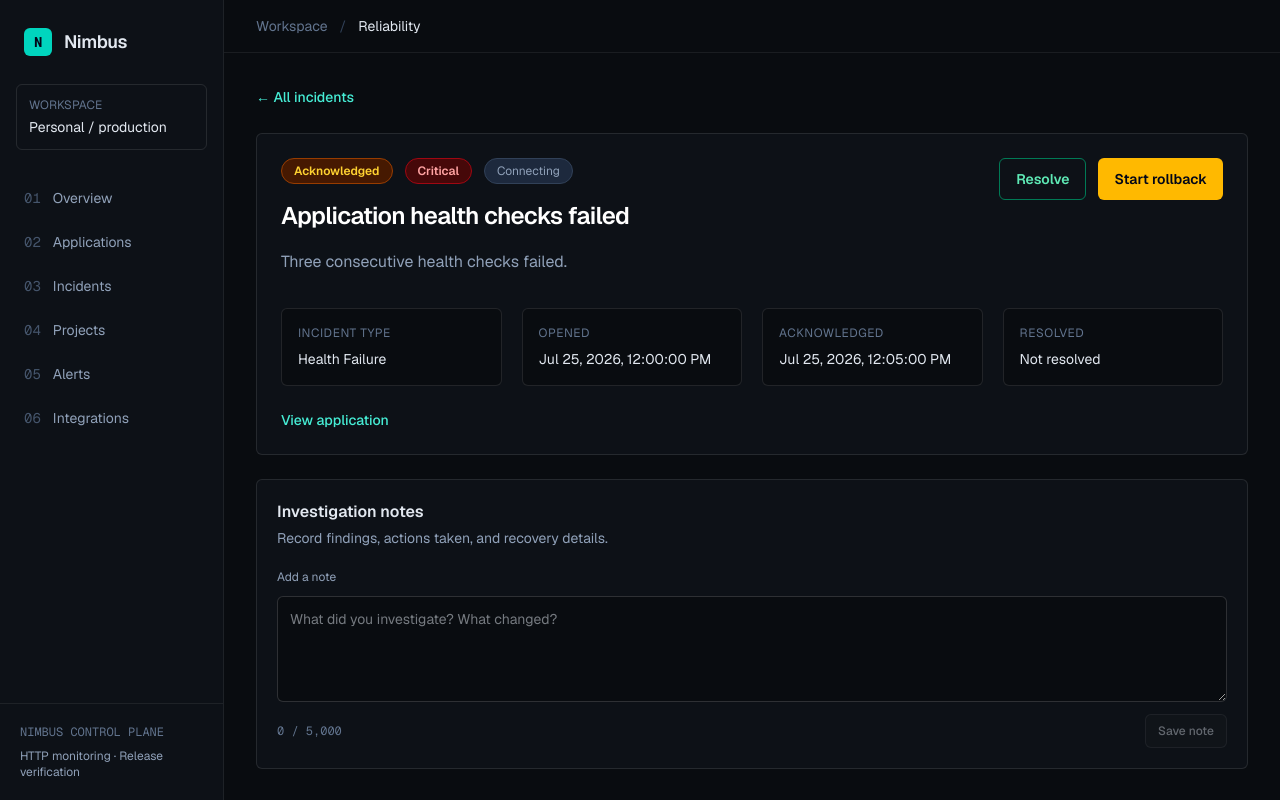
Test case: IncidentDetailPage › resolves an incident
Click the button "Resolve".
click(1043, 179)  # box [999,158,1086,200]
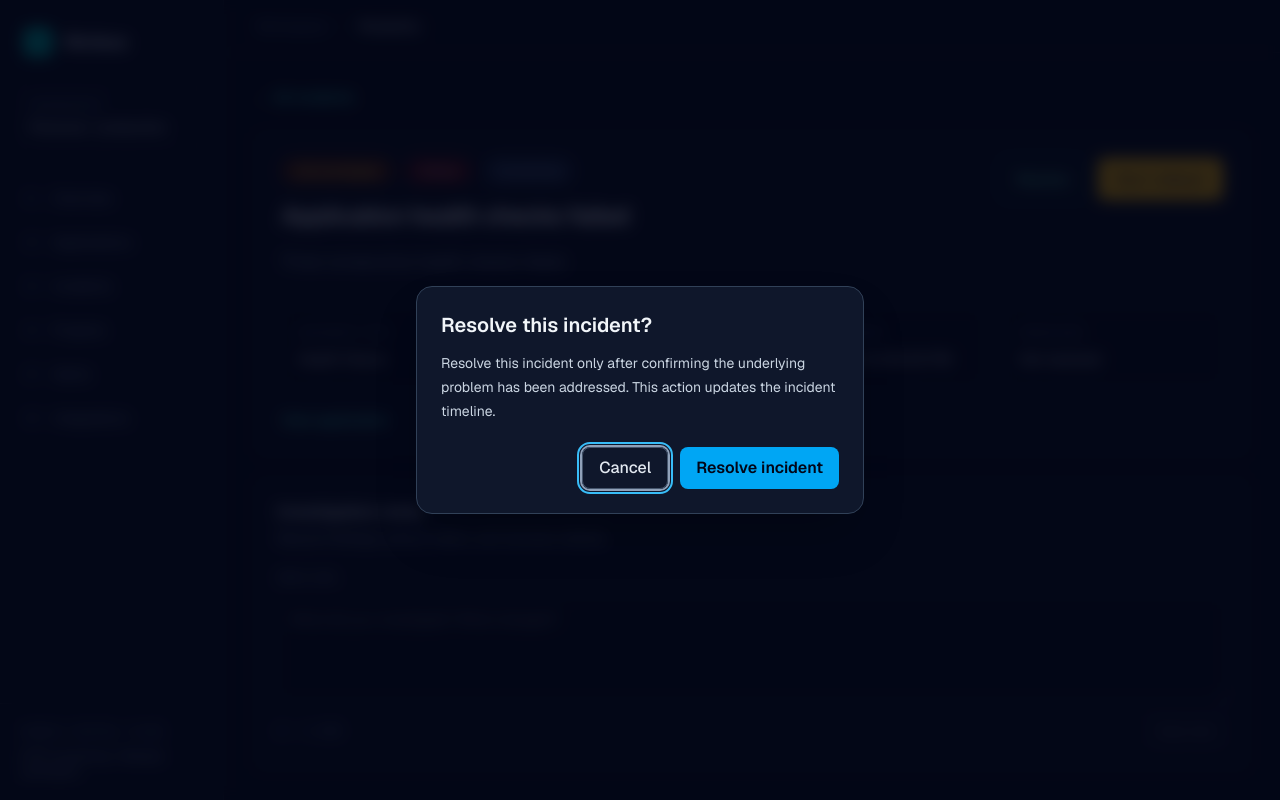
Click the button "Resolve incident".
click(760, 468)  # box [680,447,839,489]
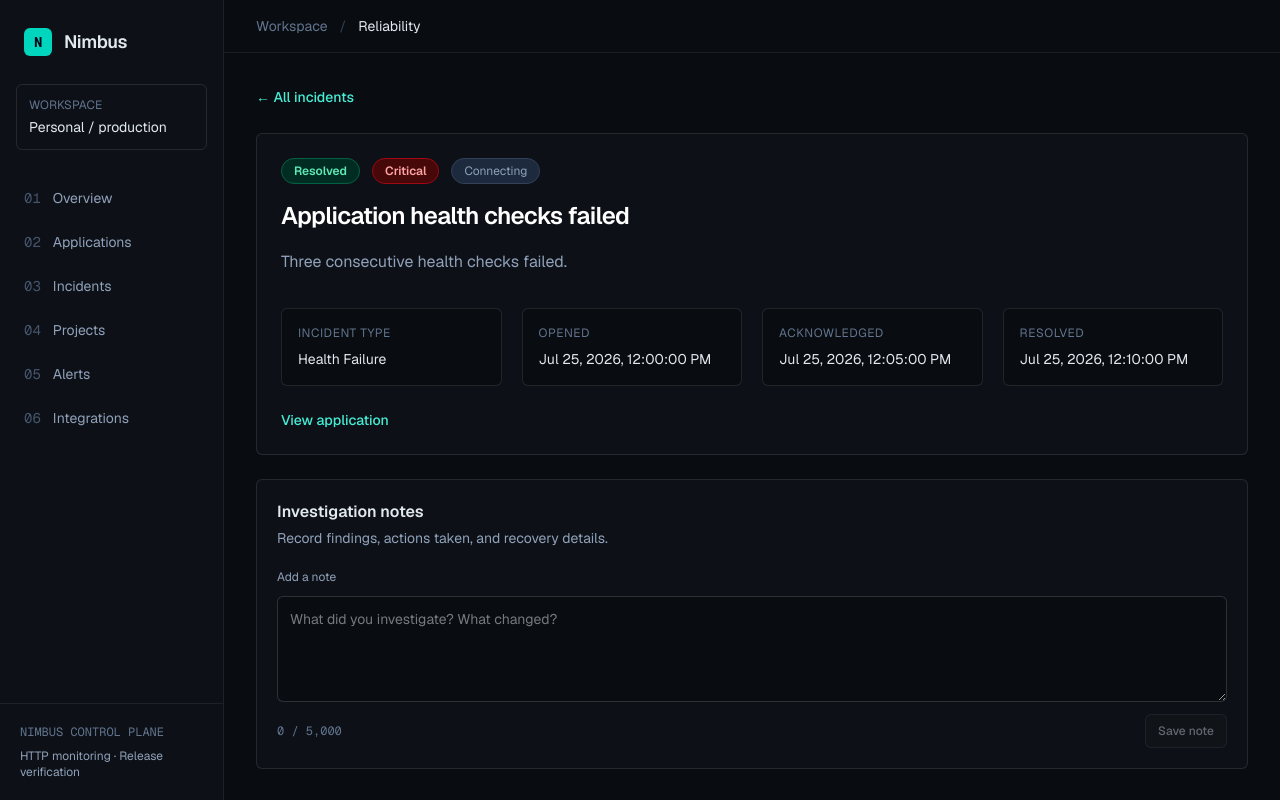
Now the text "resolved" is shown, box [281,158,360,184]
